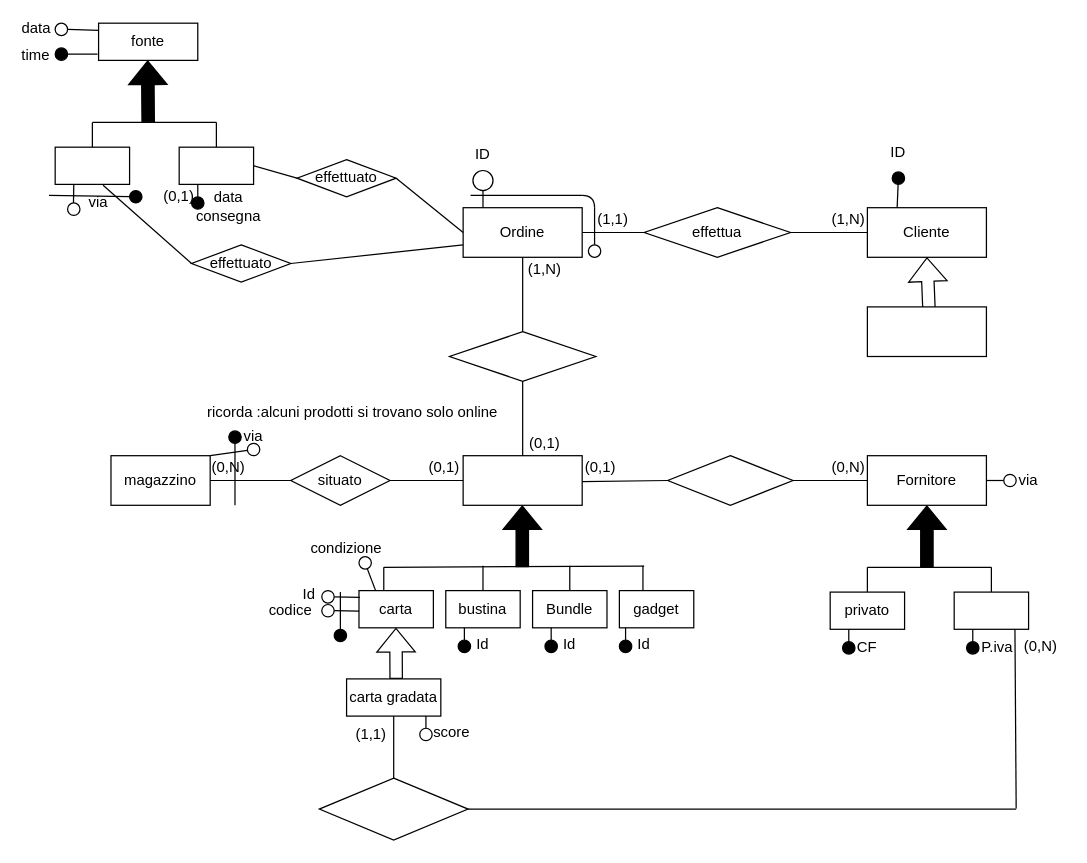
The diagram is 1087 pixels wide and 863 high, and some of its shapes have lost their labels. The shapes that lost their labels are listed below. From the top down, each one's box as (x1, y1, x2, y2) in pixels, then its label:
(54, 146, 130, 184): negozio
(178, 146, 254, 184): online
(866, 306, 986, 356): Cliente registrato
(448, 330, 596, 381): appartiene
(462, 454, 582, 505): prodotto
(666, 454, 793, 505): fornito
(953, 591, 1029, 629): Azienda
(318, 777, 468, 840): rilasciata
